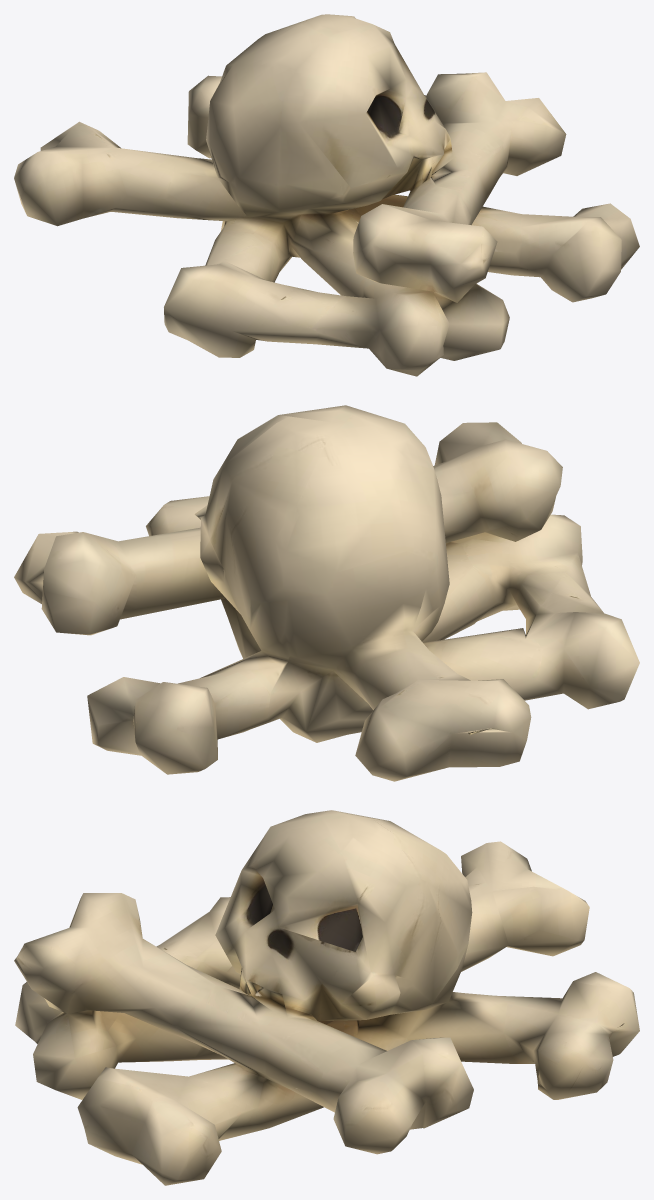
Rendered from cr_bones-BAfNsCa7.glb.
The picture shows the model from 3 angles, top to bottom: view 1: azimuth 30°, elevation 25°; view 2: azimuth 150°, elevation 25°; view 3: azimuth 270°, elevation 25°; orthographic projection. The views are drawn at different scales.
Parts seen in each view (by area): view 1: tripo_node_23f3cb85-1286-4cf9-988c-9ec180f5474e; view 2: tripo_node_23f3cb85-1286-4cf9-988c-9ec180f5474e; view 3: tripo_node_23f3cb85-1286-4cf9-988c-9ec180f5474e.
Boxes of the visible parts, x1,y1,x2,y2 form: tripo_node_23f3cb85-1286-4cf9-988c-9ec180f5474e: (14,14,639,376); tripo_node_23f3cb85-1286-4cf9-988c-9ec180f5474e: (14,405,639,781); tripo_node_23f3cb85-1286-4cf9-988c-9ec180f5474e: (14,810,639,1185).
Bounding box in the file's own units: 1.3 × 0.6389 × 1.36.
1 material, 1 textured.
